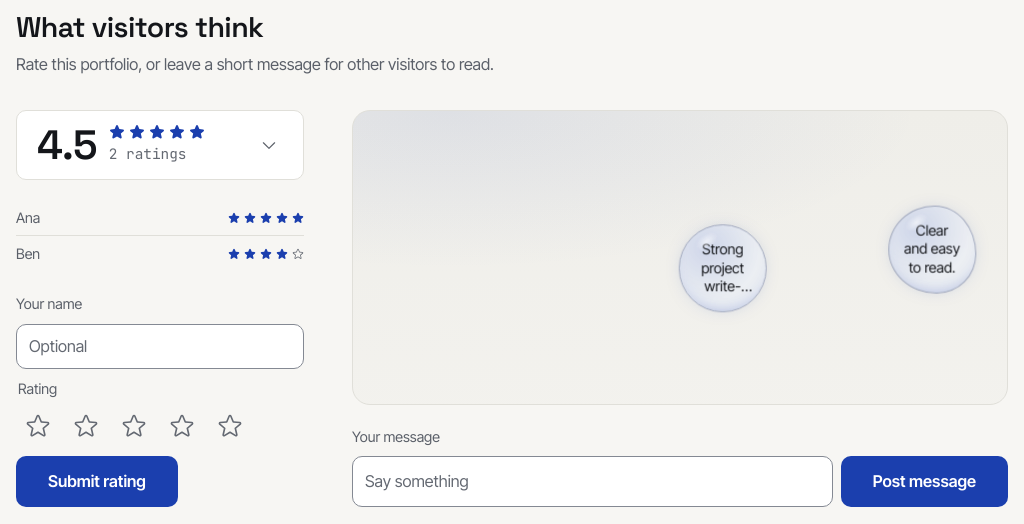
Test: Reviews › refuses to send an empty message
The width and height of the screenshot is (1024, 524).
Expected: the text "4.5" is shown, [37,125,97,166]
Click the button "Post message" at (924, 482), box [841,456,1008,507]
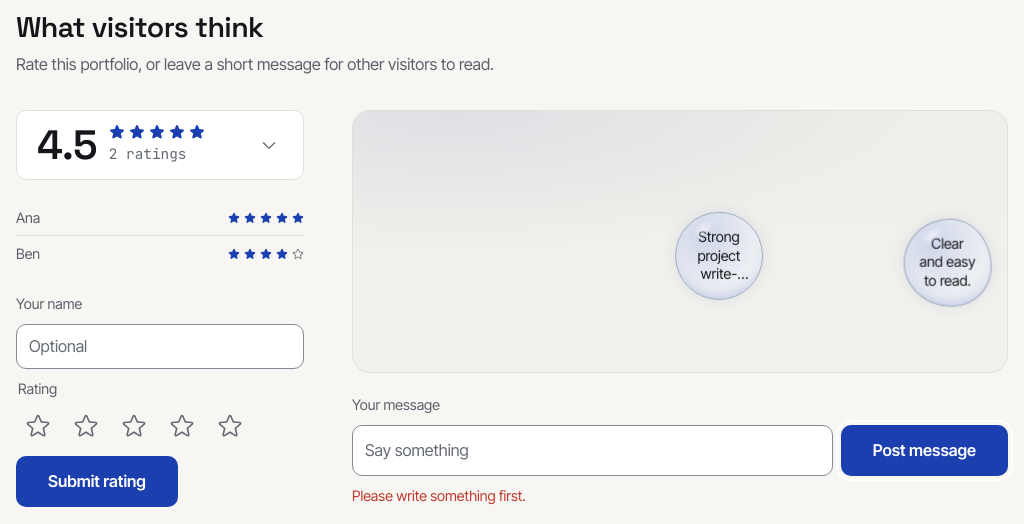
Now the message shows "write something", box [352,486,526,504]
